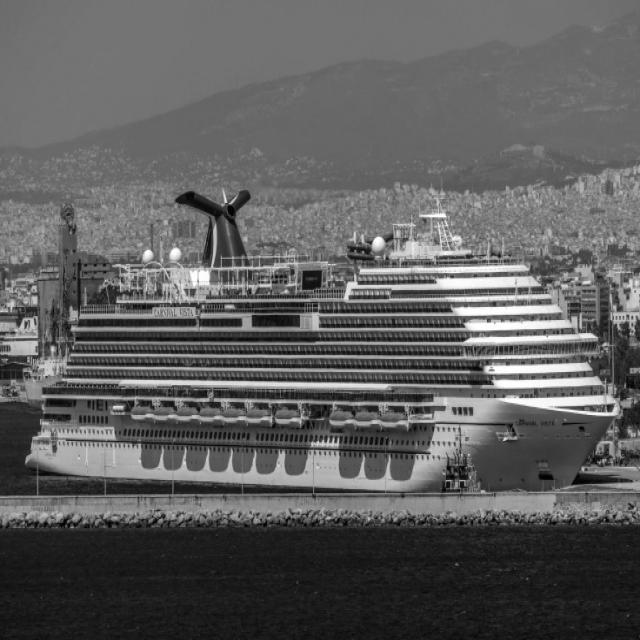cruises: (28, 183, 622, 502)
